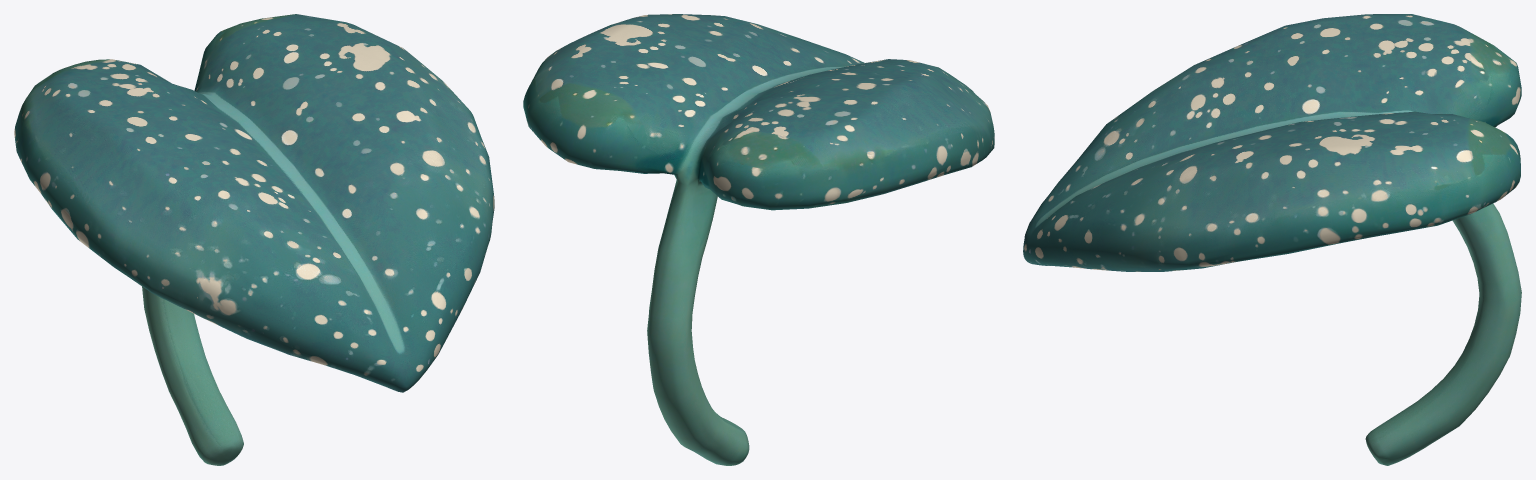
File: heart_speckle_2657_v1.glb
The picture shows the model from 3 angles, left to right: view 1: azimuth 30°, elevation 25°; view 2: azimuth 150°, elevation 25°; view 3: azimuth 270°, elevation 25°; orthographic projection. The views are drawn at different scales.
Visible parts, largest first — view 1: world; view 2: world; view 3: world.
Boxes of the visible parts, x1,y1,x2,y2 form: world: [14, 14, 494, 465]; world: [523, 14, 994, 465]; world: [1023, 14, 1521, 465].
Size of the model in its own units: 1.79 by 1.69 by 2.
1 material, 1 textured.
